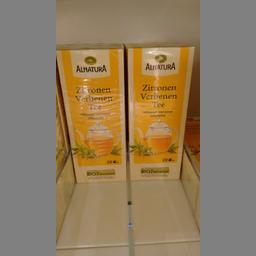tea: (124, 40, 194, 181), (56, 41, 125, 182)
